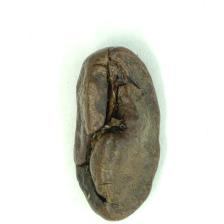NG: (78, 58, 147, 206)
